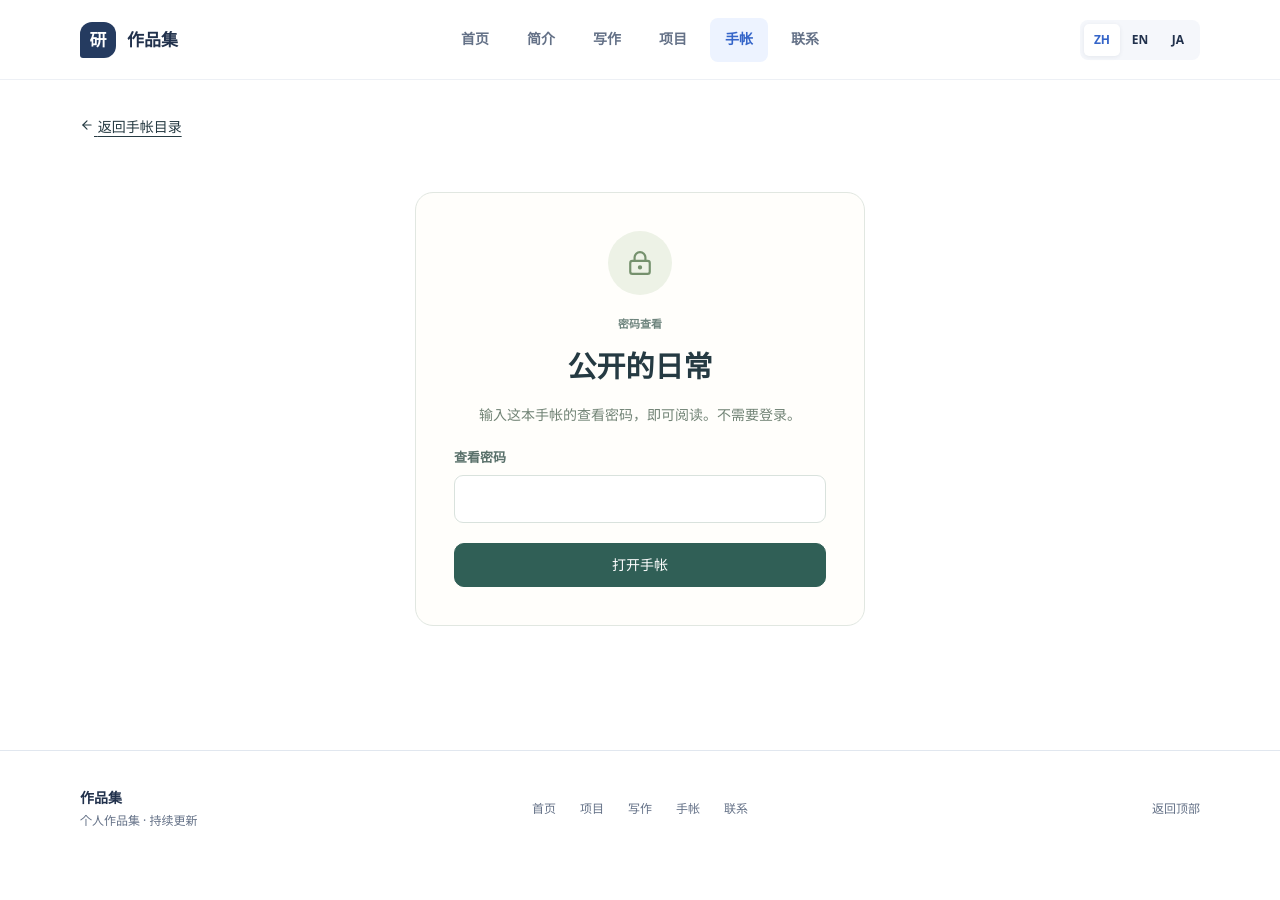
password protected public journals › unlocks without an account and clears all private views on an explicit lock
This screenshot has width=1280, height=900.
Type "example-passphrase" into the password field labelled "查看密码" at (640, 499), box [454,475,826,523]
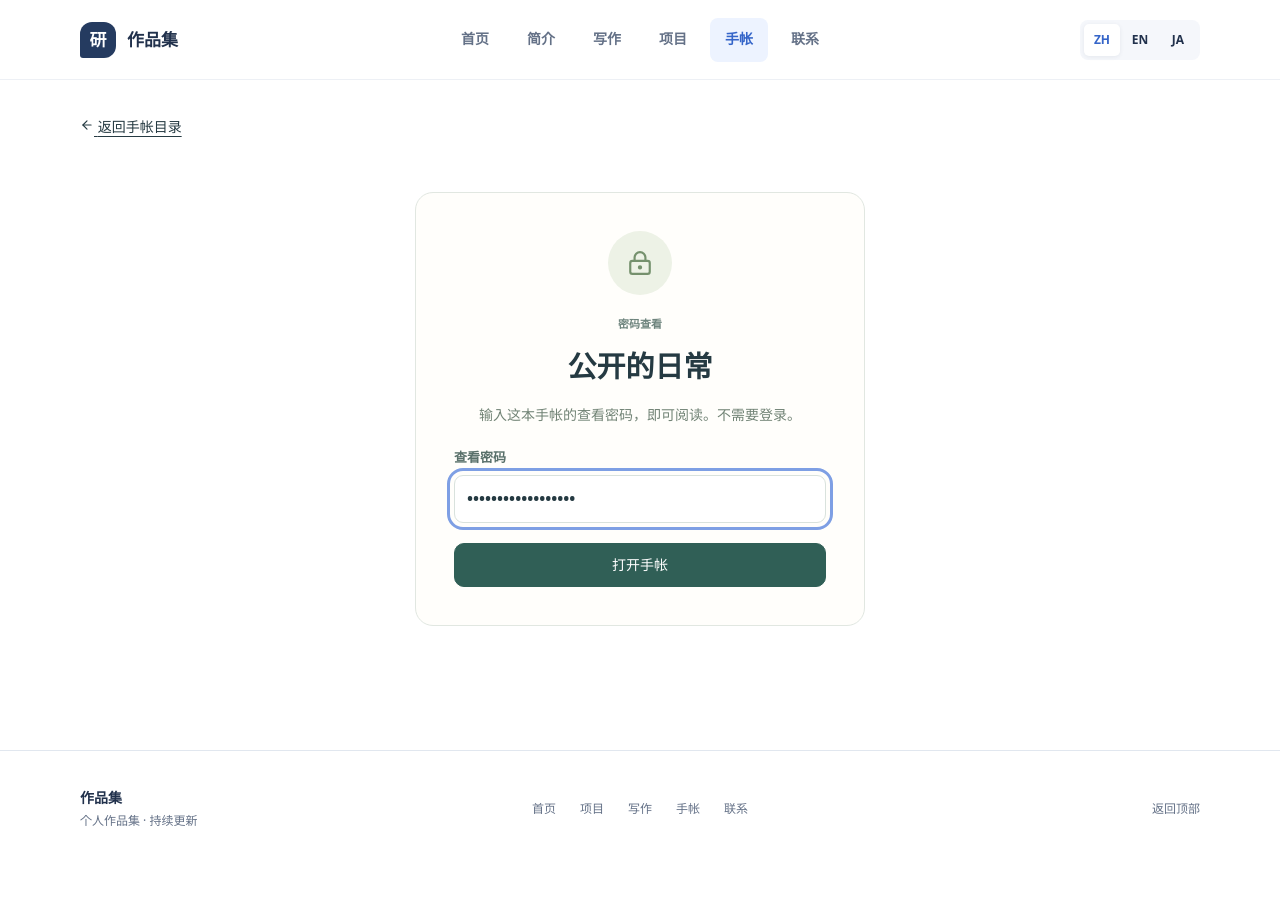
Click the button "打开手帐" at (640, 565), box [454,543,826,587]
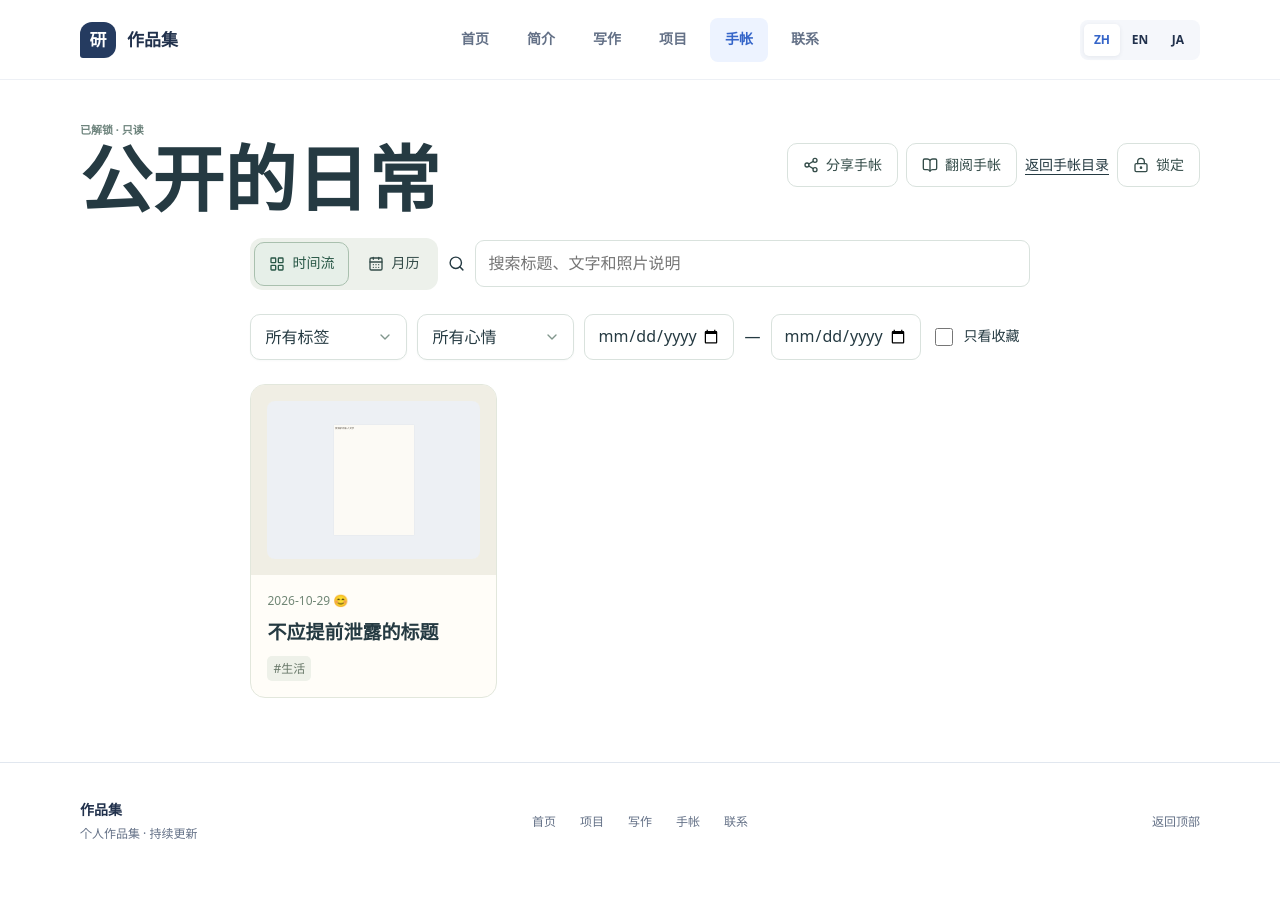
Expected: the heading "不应提前泄露的标题" is shown, [268,622,438,643]
Click the button "锁定" at (1158, 165), box [1117,143,1200,187]
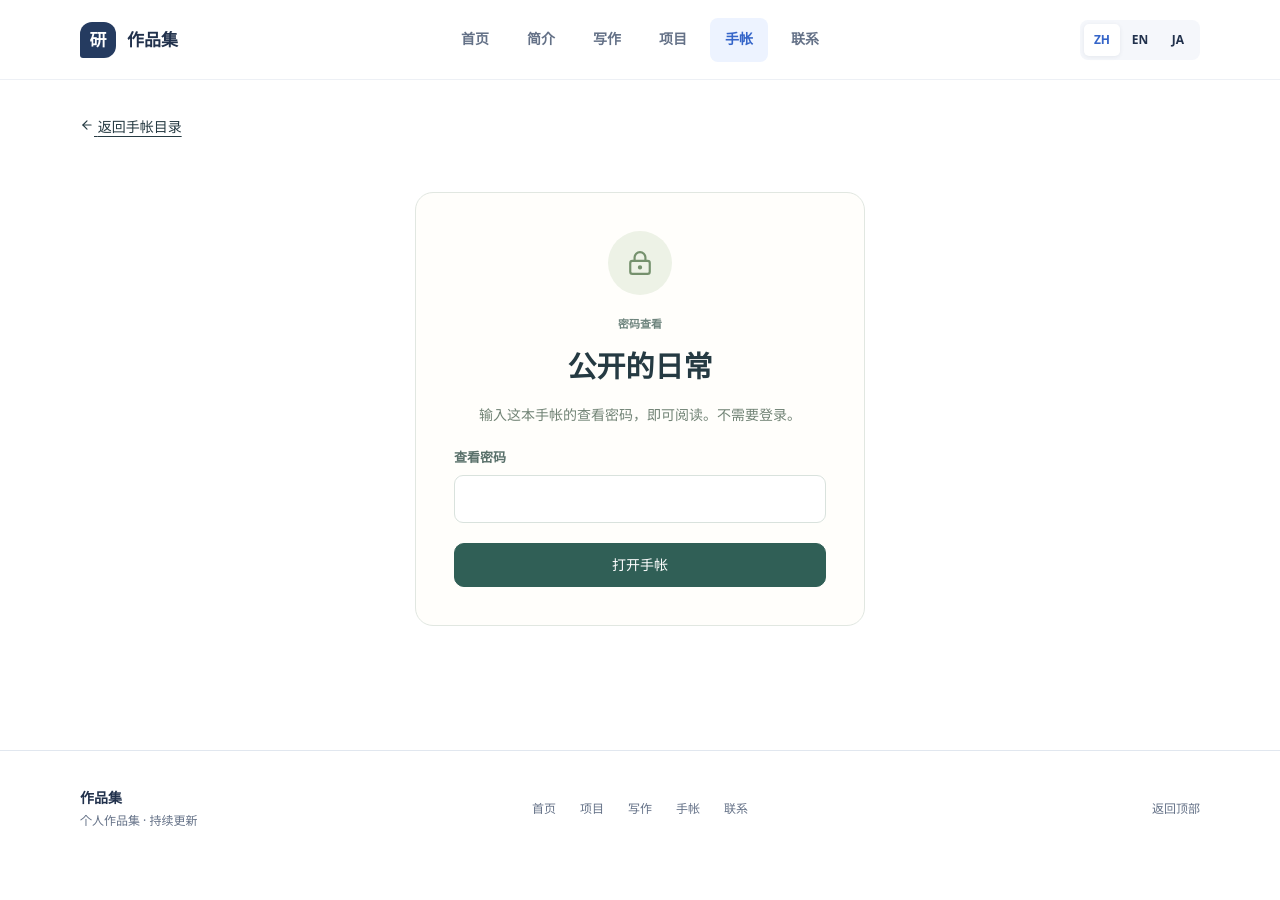
Expected: the password field labelled "查看密码" is shown, [454,475,826,523]
Expected: the button "不应提前泄露的标题" is gone
Expected: the button "受保护的私人文字" is gone
